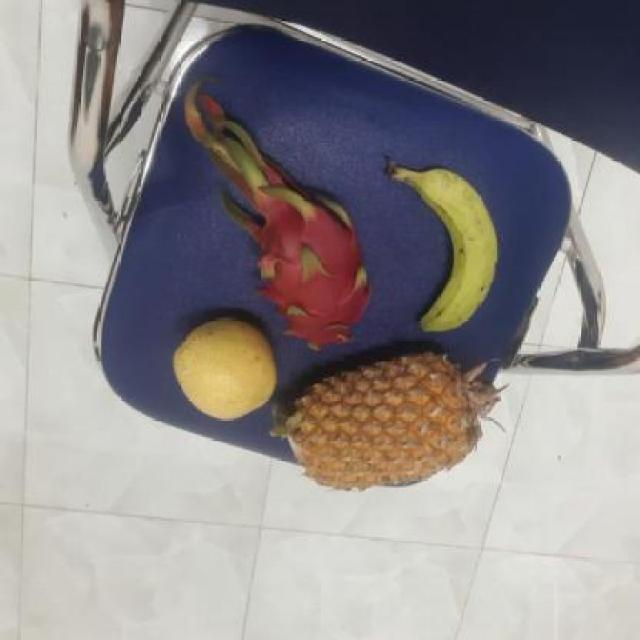banana: (392, 168, 497, 334)
dragon fruit: (242, 196, 372, 350)
pear: (167, 315, 281, 422)
pineapple: (279, 348, 486, 497)
